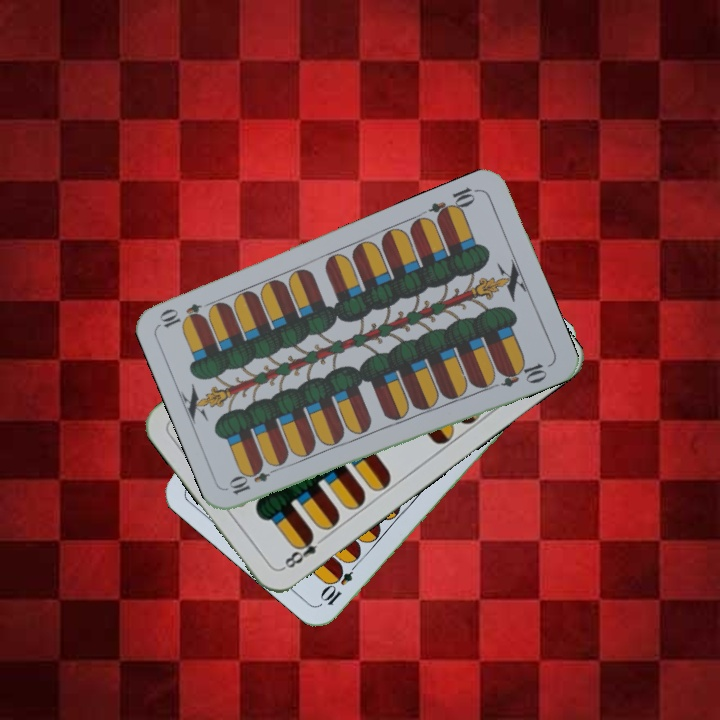E10: (317, 556, 362, 608), (425, 183, 482, 224), (225, 461, 283, 497)
E8: (278, 529, 329, 572)
